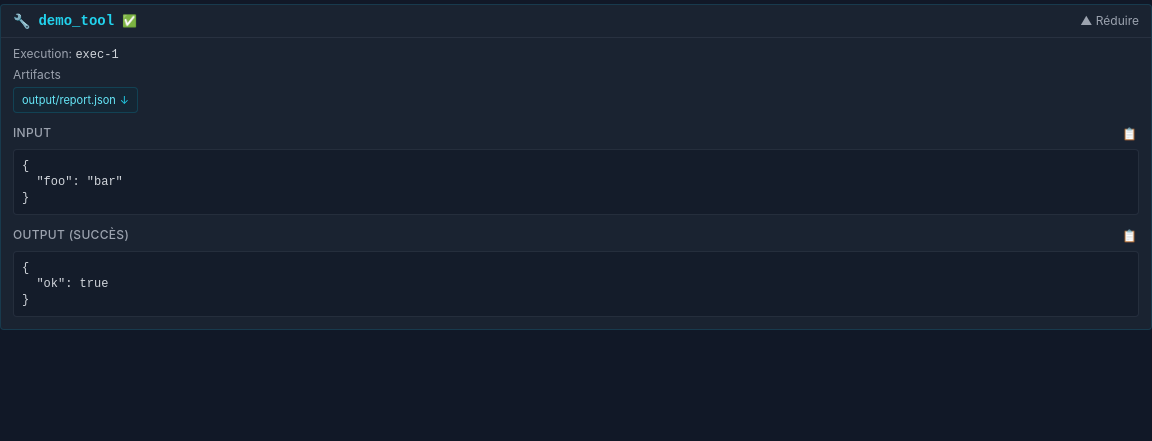
Scenario: ToolCallBlock › loads artifact preview on demand
Click the button with aria-label "Prévisualiser output/report.json". click: (69, 100)
box: [22,92,116,108]
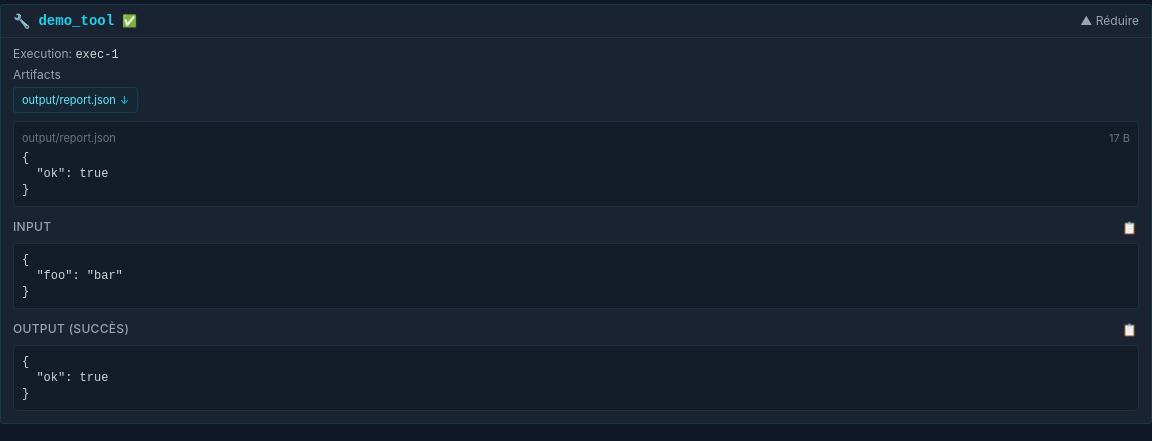
Expected: the text "{ \"ok\": true }" below "17" is shown, [22,151,108,197]
